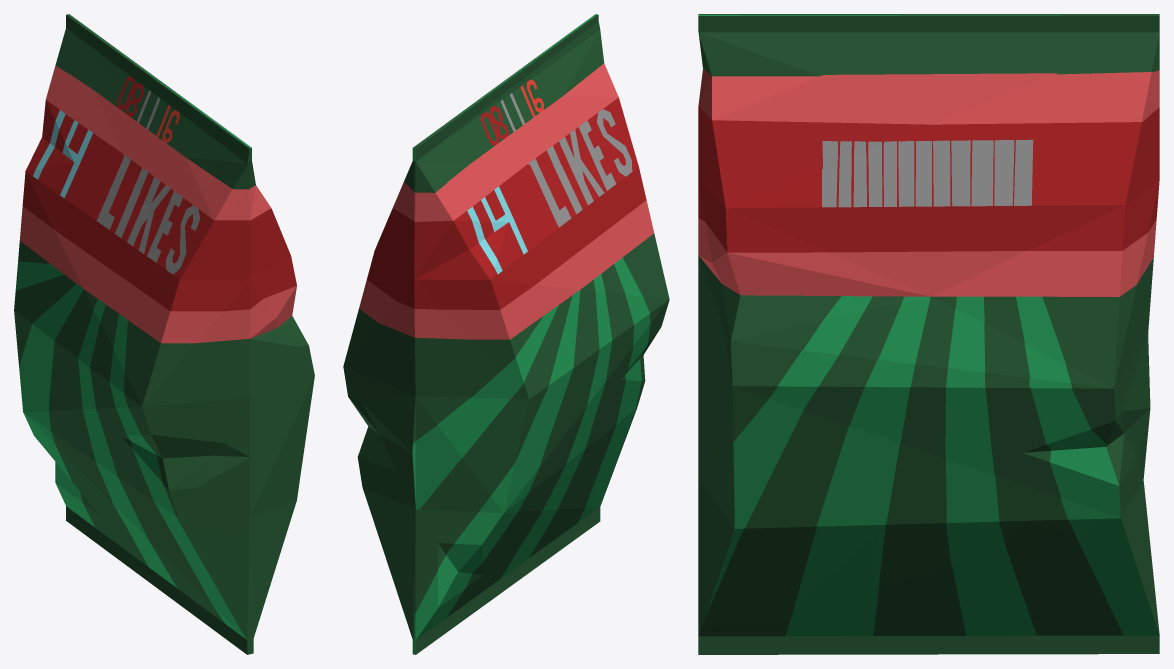
Rendered from chips3.fbx.
The picture shows the model from 3 angles, left to right: view 1: azimuth 30°, elevation 25°; view 2: azimuth 150°, elevation 25°; view 3: azimuth 270°, elevation 25°; orthographic projection. The views are drawn at different scales.
Parts seen in each view (by area): view 1: group478861069.001; view 2: group478861069.001; view 3: group478861069.001.
Boxes of the visible parts, left/top/right/bottom form: group478861069.001: left=14, top=14, right=314, bottom=654; group478861069.001: left=343, top=14, right=669, bottom=654; group478861069.001: left=698, top=14, right=1159, bottom=654.
Size of the model in its own units: 146 by 393 by 257.
